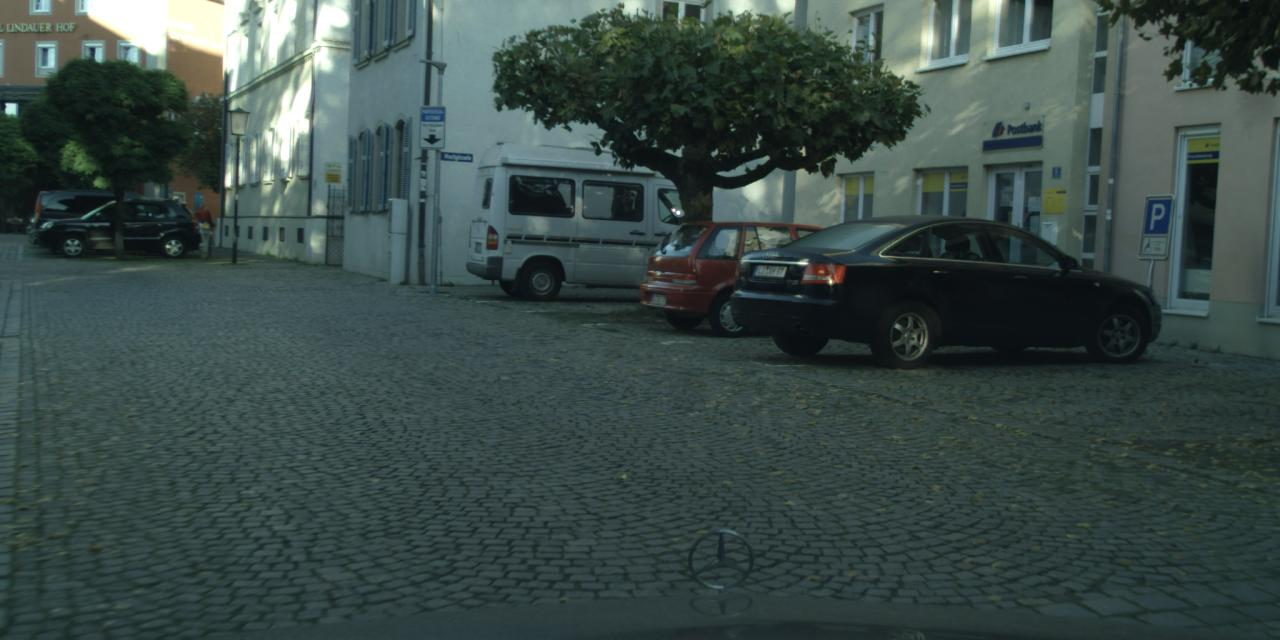ped: (194, 202, 210, 242)
